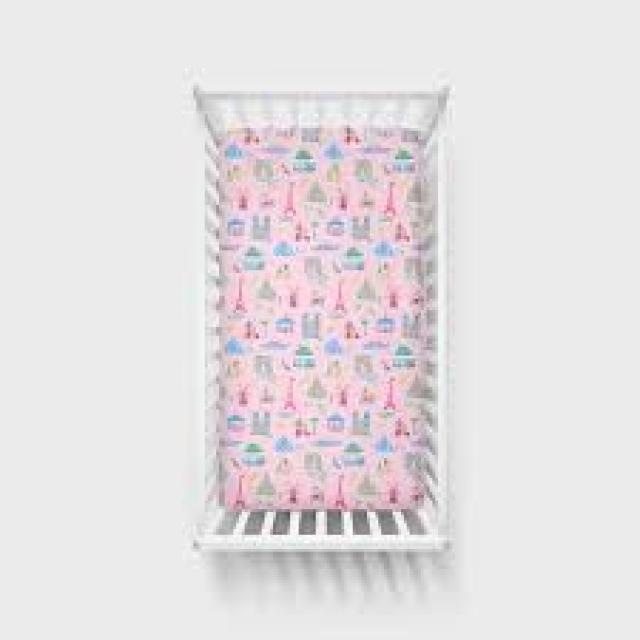crib: (188, 82, 455, 554)
